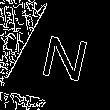N_N: (38, 24, 94, 81)
